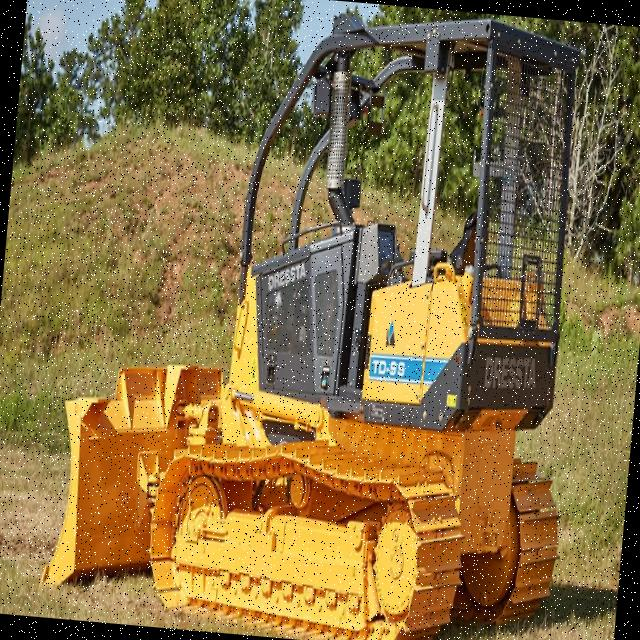Bulldozer: (14, 0, 611, 640)
